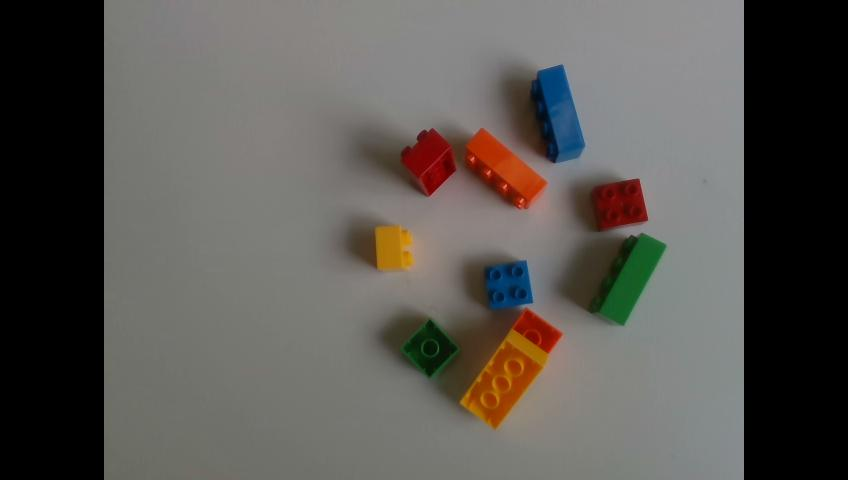2x2_blue: (487, 260, 531, 308)
2x2_green: (400, 315, 459, 377)
2x2_orange: (511, 306, 561, 353)
2x2_red: (591, 177, 647, 232)
2x2_yellow: (376, 225, 412, 267)
4x2_blue: (528, 63, 586, 161)
4x2_green: (593, 234, 666, 324)
4x2_orange: (459, 128, 546, 207)
4x2_red: (396, 128, 456, 195)
4x2_yellow: (459, 329, 548, 426)
